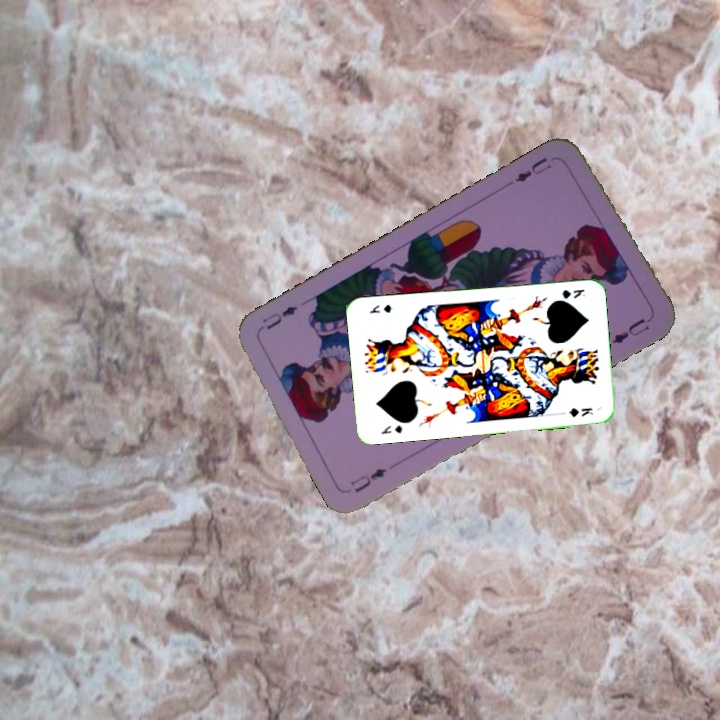EU: (346, 464, 390, 496), (511, 153, 554, 185)
GK: (556, 285, 587, 301), (377, 421, 405, 437)
